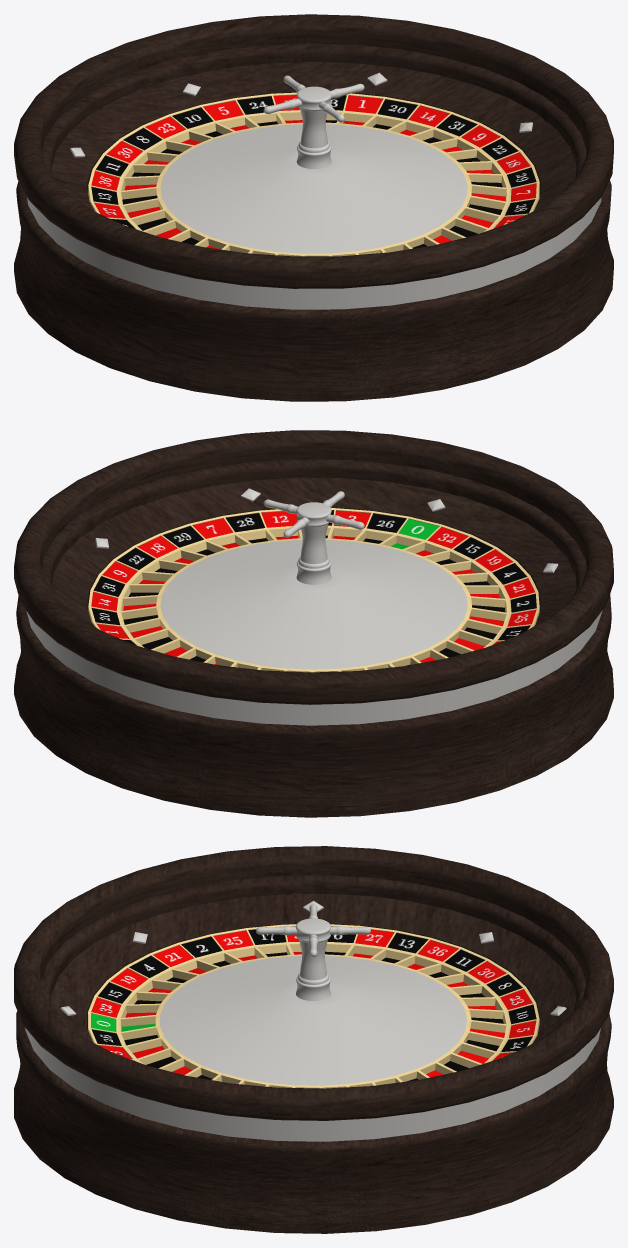
Rendered from roulette_wheel.glb.
The picture shows the model from 3 angles, top to bottom: view 1: azimuth 30°, elevation 25°; view 2: azimuth 150°, elevation 25°; view 3: azimuth 270°, elevation 25°; orthographic projection.
Visible parts, largest first — view 1: Roulette.001, Roulette.002; view 2: Roulette.001, Roulette.002; view 3: Roulette.001, Roulette.002.
Part boxes in pixels (x1=…): Roulette.001: x1=14, y1=14, x2=613, y2=401; Roulette.002: x1=88, y1=75, x2=539, y2=256; Roulette.001: x1=14, y1=430, x2=613, y2=817; Roulette.002: x1=88, y1=491, x2=539, y2=672; Roulette.001: x1=14, y1=846, x2=613, y2=1233; Roulette.002: x1=88, y1=904, x2=539, y2=1088.
Size of the model in its own units: 2 by 0.6679 by 2.
1 material, 1 textured.
